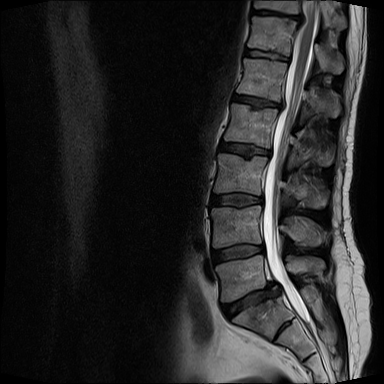Lumbar Disc Bulge (LDB): (217, 269, 287, 327), (206, 229, 273, 268), (203, 177, 270, 214), (213, 134, 277, 165), (225, 89, 292, 109)
Spinal Stenosis (SS): (255, 269, 292, 316), (244, 231, 275, 266), (247, 185, 275, 215), (254, 138, 281, 168), (286, 4, 317, 29), (266, 90, 293, 117), (278, 44, 302, 73)
Thoracic Disc Bulge (TDB): (235, 37, 308, 65), (245, 4, 321, 23)
